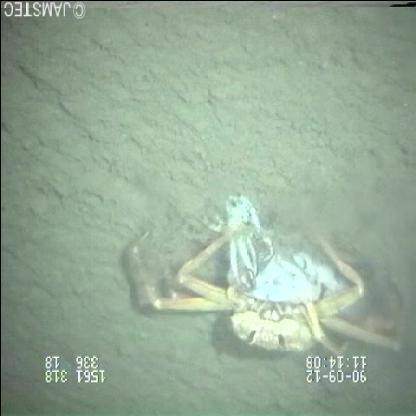Bio: (124, 188, 412, 360)
